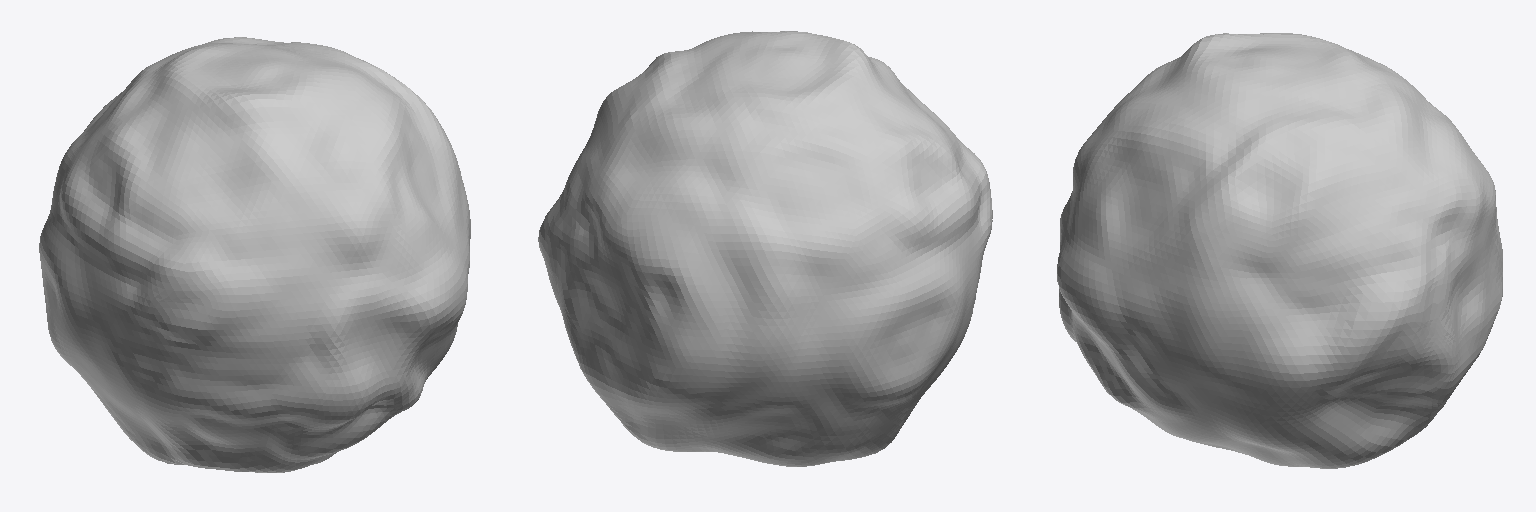
File: astriod.obj
3 renders of one model, left to right at view 1: azimuth 30°, elevation 25°; view 2: azimuth 150°, elevation 25°; view 3: azimuth 270°, elevation 25°, orthographic.
Visible parts, largest first — view 1: Icosphere.002; view 2: Icosphere.002; view 3: Icosphere.002.
Part boxes in pixels (bbox=[...]): Icosphere.002: bbox=[39, 37, 470, 472]; Icosphere.002: bbox=[538, 31, 992, 466]; Icosphere.002: bbox=[1057, 33, 1502, 468].
Bounding box in the file's own units: 2.15 × 2.11 × 2.18.